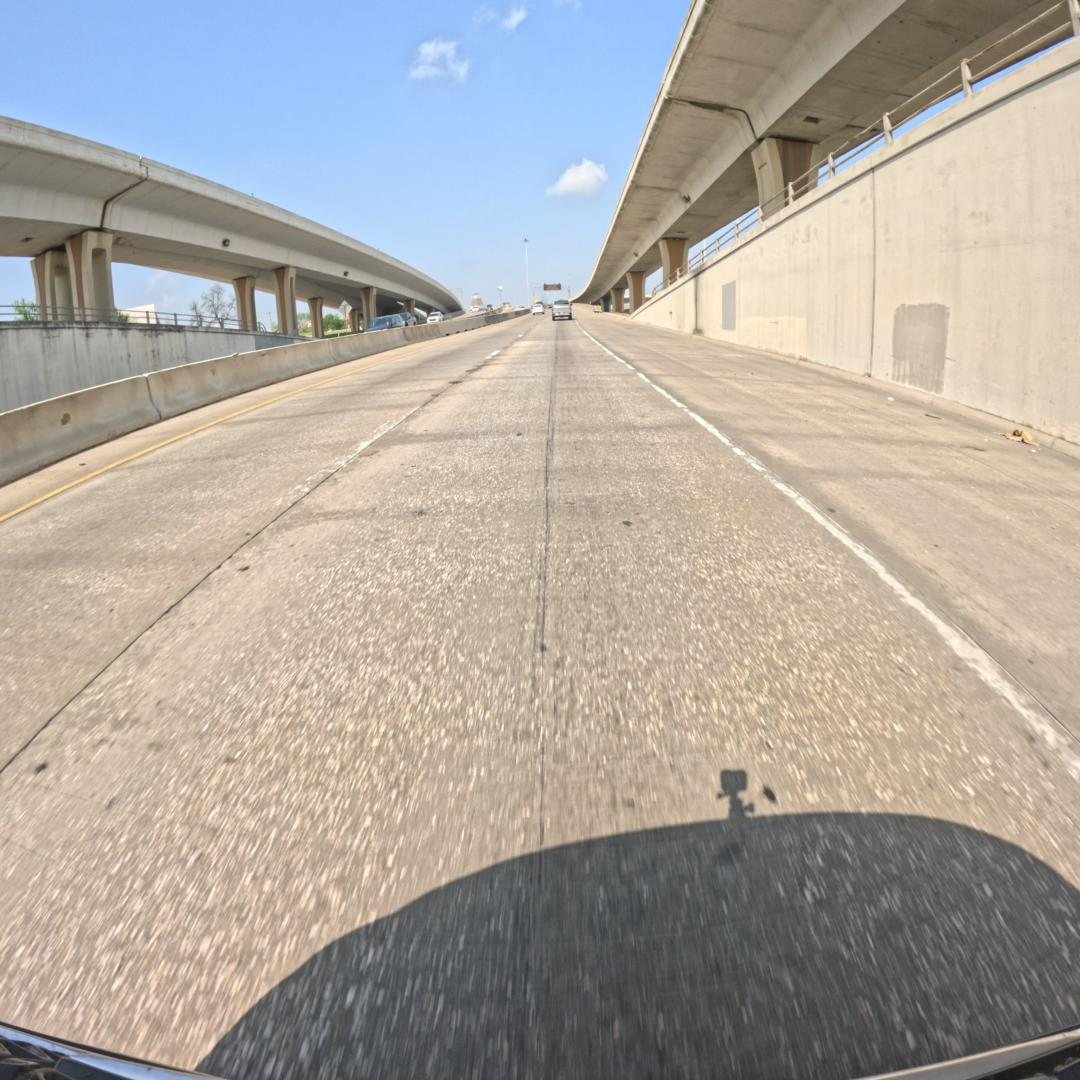lane0: (0, 321, 1080, 1077)
lane1: (0, 317, 538, 770)
